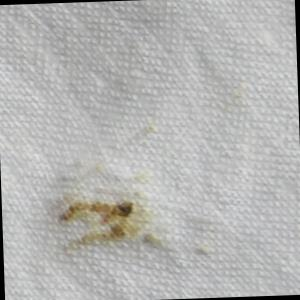Oil Stain: (36, 123, 192, 275)
